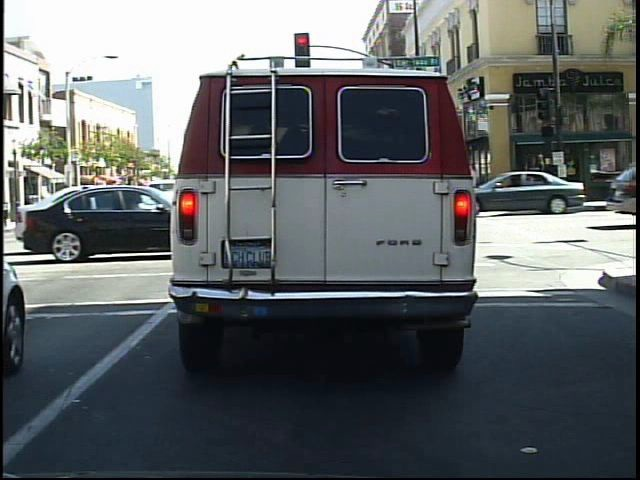person: (535, 154, 562, 209), (533, 148, 554, 209), (516, 157, 539, 204), (546, 158, 566, 208)
